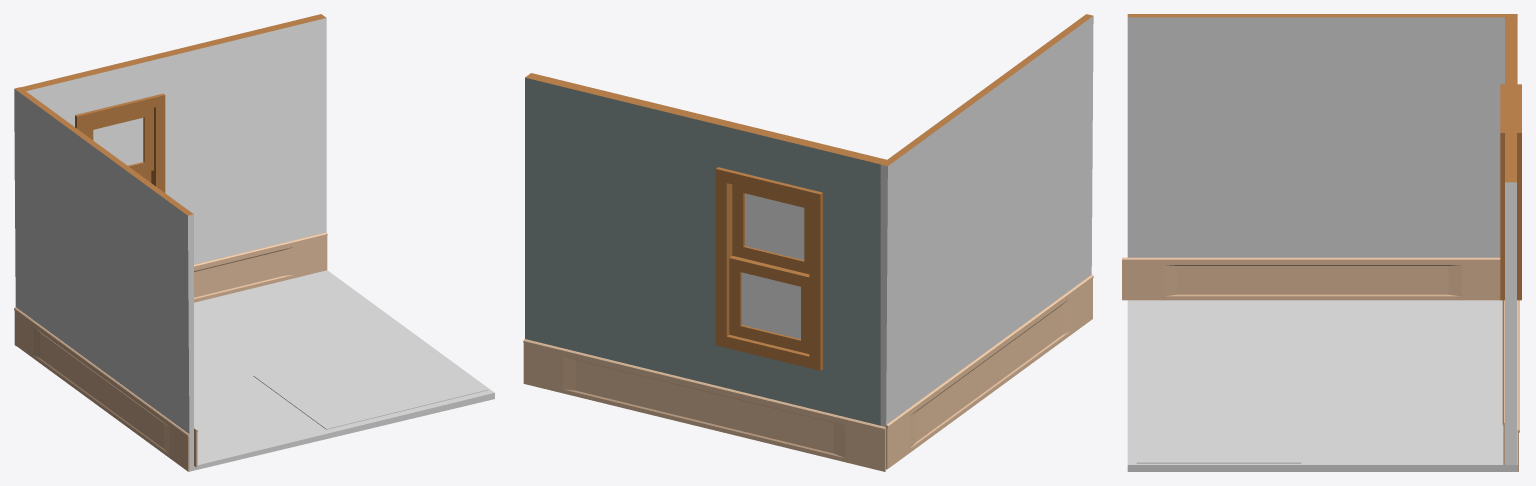
File: room.glb
3 renders of one model, left to right at view 1: azimuth 30°, elevation 25°; view 2: azimuth 150°, elevation 25°; view 3: azimuth 270°, elevation 25°, orthographic. The views are drawn at different scales.
Parts seen in each view (by area): view 1: Room, wallWithWindow.002, Rug, paneling.009, paneling.011, windowTop.002; view 2: wallWithWindow.002, Room, paneling.012, paneling.009, windowBottom.002, windowTop.002; view 3: Room, paneling.010, Rug, wallWithWindow.002, paneling.012, paneling.011.
Boxes of the visible parts, left/top/right/bottom form: Room: left=14, top=87, right=494, bottom=471; wallWithWindow.002: left=21, top=14, right=326, bottom=264; Rug: left=253, top=336, right=488, bottom=429; paneling.009: left=14, top=307, right=189, bottom=471; paneling.011: left=194, top=232, right=327, bottom=302; windowTop.002: left=86, top=107, right=153, bottom=173; wallWithWindow.002: left=525, top=73, right=886, bottom=425; Room: left=880, top=14, right=1093, bottom=426; paneling.012: left=523, top=339, right=885, bottom=471; paneling.009: left=886, top=274, right=1093, bottom=469; windowBottom.002: left=729, top=255, right=809, bottom=353; windowTop.002: left=732, top=184, right=809, bottom=274; Room: left=1127, top=14, right=1517, bottom=471; paneling.010: left=1122, top=257, right=1500, bottom=300; Rug: left=1136, top=374, right=1301, bottom=463; wallWithWindow.002: left=1500, top=17, right=1521, bottom=464; paneling.012: left=1517, top=300, right=1519, bottom=471; paneling.011: left=1502, top=300, right=1504, bottom=464.
Bounding box in the file's own units: 5.1 × 4.1 × 5.12.
